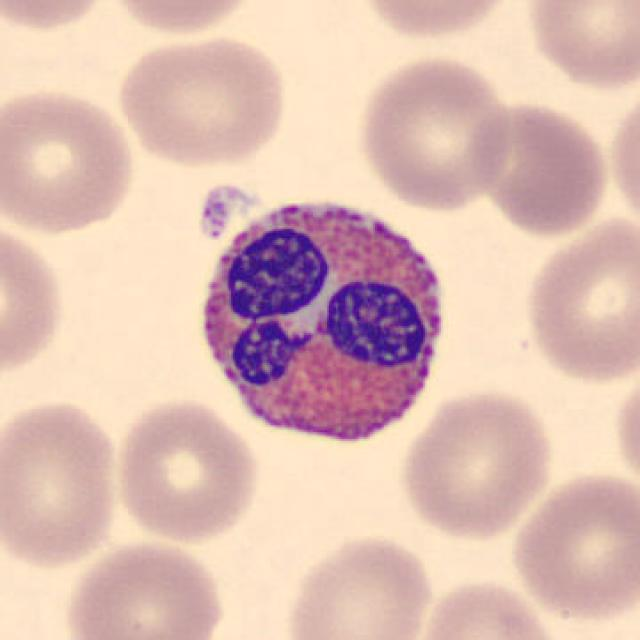Eosinophil: (183, 177, 464, 466)
Platelets: (189, 172, 262, 242)
RBC: (110, 30, 294, 171), (394, 384, 556, 543), (354, 53, 516, 211), (110, 395, 263, 546), (0, 394, 124, 571), (0, 83, 140, 238), (505, 465, 638, 626), (519, 211, 638, 388), (471, 97, 613, 242), (61, 536, 230, 640), (279, 529, 436, 640), (0, 215, 71, 388), (519, 0, 638, 93), (409, 575, 565, 640), (354, 0, 521, 44), (103, 0, 265, 39), (606, 86, 640, 236), (610, 361, 640, 501), (0, 0, 115, 35)
